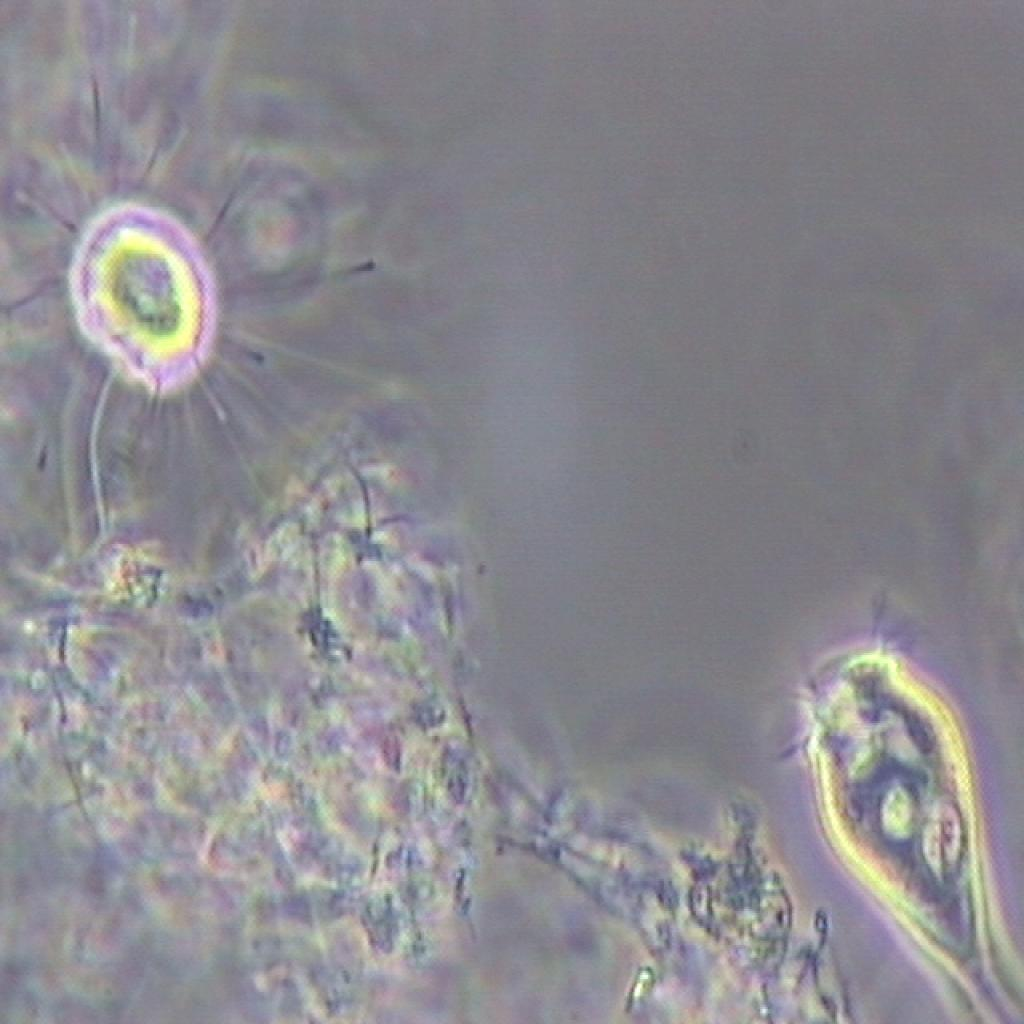Suctorida: (6, 57, 344, 498)
